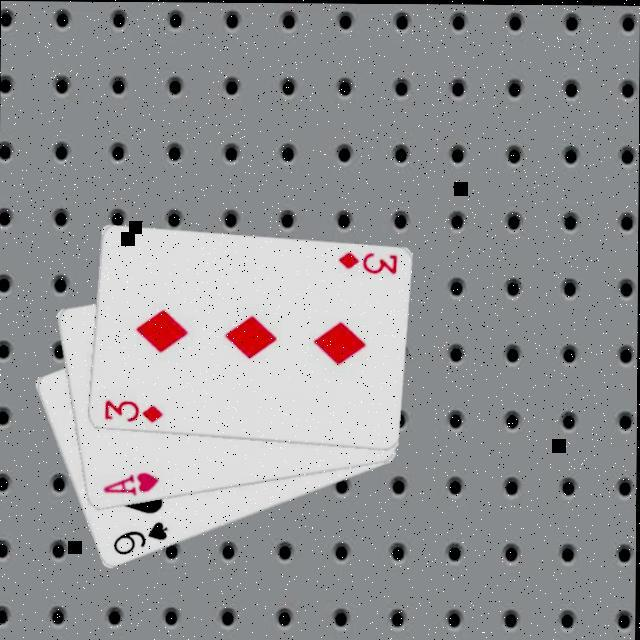3D: (100, 394, 164, 424), (333, 247, 397, 274)
9S: (108, 516, 170, 556)
AH: (99, 468, 160, 498)
